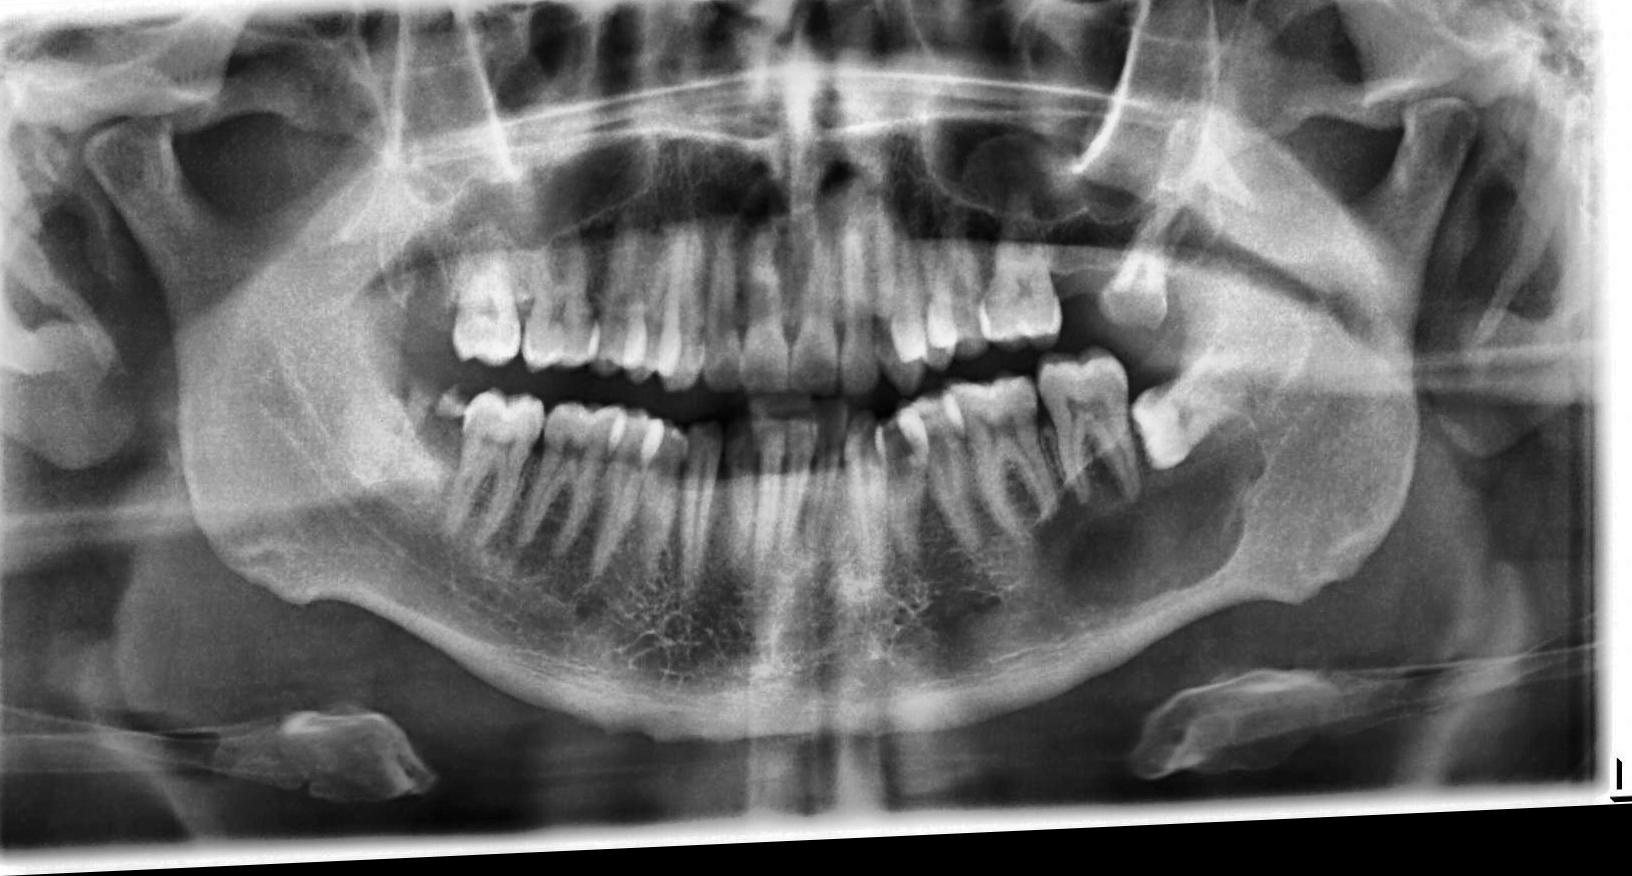okc: (1025, 411, 1270, 628)
